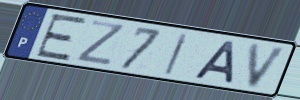7: (119, 25, 165, 71)
A: (190, 39, 238, 86)
E: (33, 13, 90, 63)
I: (162, 31, 191, 77)
V: (246, 41, 290, 91)
Z: (74, 19, 128, 68)
